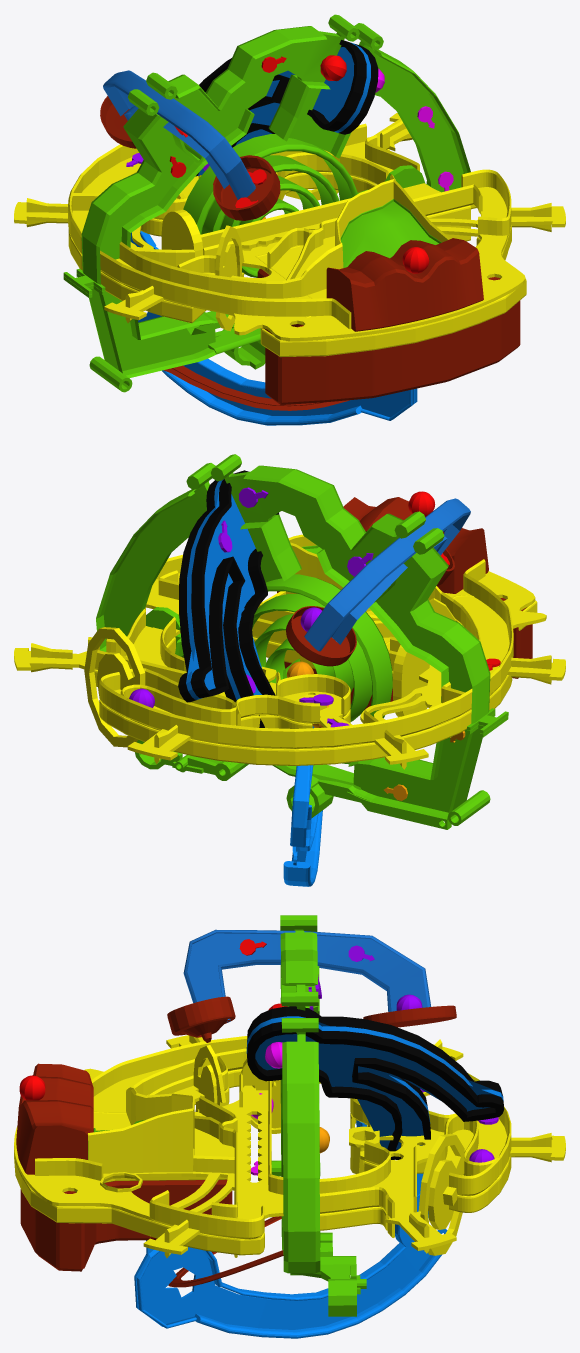
Rendered from Maze_Ball_Test_12.0.fbx.
3 views of the same model, one above another, from view 1: azimuth 30°, elevation 25°; view 2: azimuth 150°, elevation 25°; view 3: azimuth 270°, elevation 25° (orthographic).
Visible parts, largest first — view 1: Yellow, Green, Back_Red_Part, Start_Red_Part, Blue, Blue_Part, Block, Blue_Part_3_Wall, Beside, Red_Line, Beside_1, pSphere1 (+1 smaller); view 2: Green, Yellow, Blue_Part, Blue, Start_Red_Part, Blue_Part_3_Wall, Beside_1, Block, Back_Red_Part; view 3: Yellow, Blue, Blue_Part, Green, Block, Start_Red_Part, Back_Red_Part, Blue_Part_3_Wall, Beside, Beside_1, Red_Line, pSphere1.
Boxes of the visible parts, box(x1,y1,x2,y2) form: Yellow: box(14, 113, 565, 356); Green: box(63, 14, 470, 392); Back_Red_Part: box(257, 269, 520, 404); Start_Red_Part: box(326, 238, 483, 331); Blue: box(103, 70, 415, 419); Blue_Part: box(195, 40, 378, 176); Block: box(335, 178, 450, 267); Blue_Part_3_Wall: box(140, 231, 417, 425); Beside: box(213, 155, 280, 220); Red_Line: box(164, 365, 349, 410); Beside_1: box(100, 96, 136, 148); pSphere1: box(402, 247, 429, 273); Green: box(96, 454, 508, 829); Yellow: box(14, 555, 565, 769); Blue_Part: box(178, 470, 278, 727); Blue: box(292, 498, 470, 865); Start_Red_Part: box(343, 497, 488, 593); Blue_Part_3_Wall: box(283, 726, 322, 886); Beside_1: box(286, 606, 356, 666); Block: box(262, 534, 370, 611); Back_Red_Part: box(277, 591, 532, 710); Yellow: box(14, 1035, 565, 1258); Blue: box(134, 929, 447, 1329); Blue_Part: box(246, 1006, 504, 1159); Green: box(271, 915, 366, 1316); Block: box(87, 1093, 234, 1173); Start_Red_Part: box(16, 1063, 93, 1174); Back_Red_Part: box(20, 1179, 232, 1271); Blue_Part_3_Wall: box(134, 1120, 442, 1338); Beside: box(167, 996, 235, 1042); Beside_1: box(363, 1005, 456, 1027); Red_Line: box(168, 1216, 283, 1287); pSphere1: box(19, 1075, 45, 1100).
Bounding box in the file's own units: 24.97 × 20.43 × 26.62.
